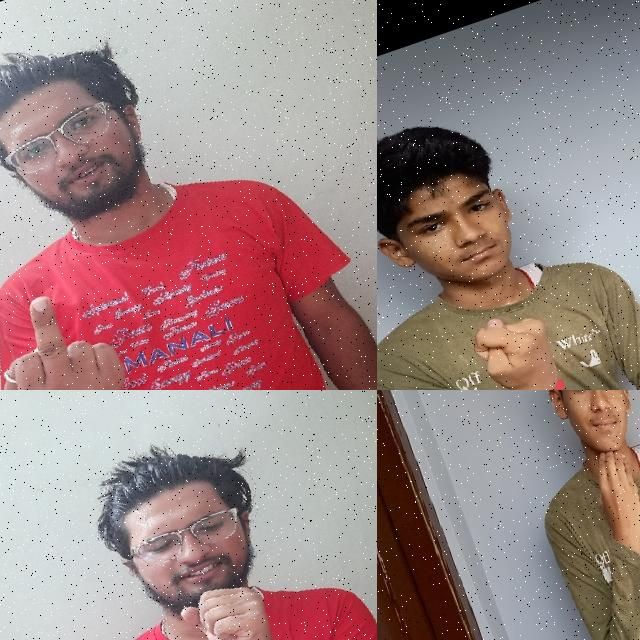Chin Flick: (518, 390, 640, 548)
Dulya: (457, 293, 586, 390)
Fist Mouth: (70, 412, 328, 640)
Middle Finger: (0, 263, 157, 390)
